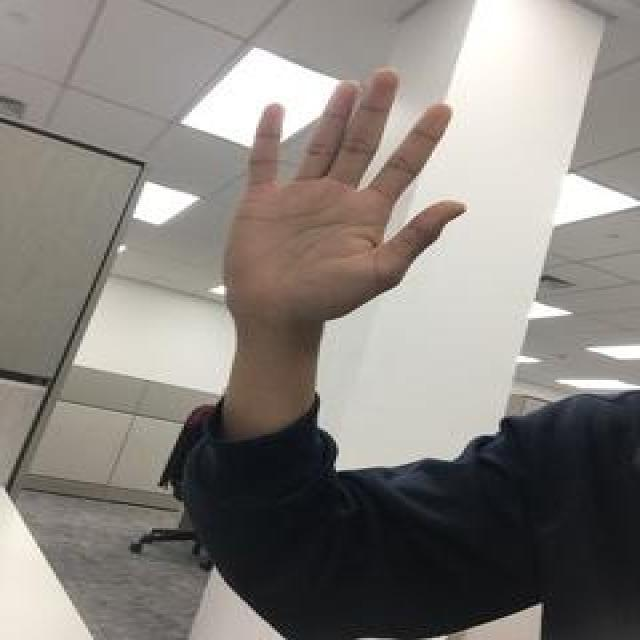Hand: (219, 65, 476, 378)
